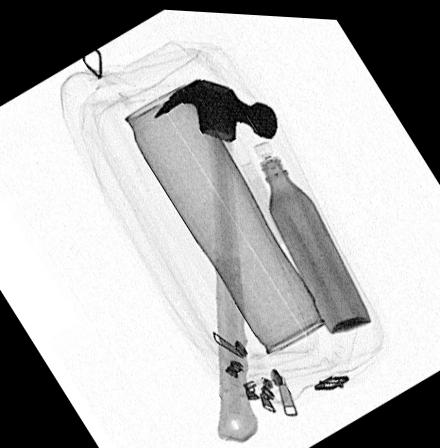Hammer: (154, 75, 277, 440)
